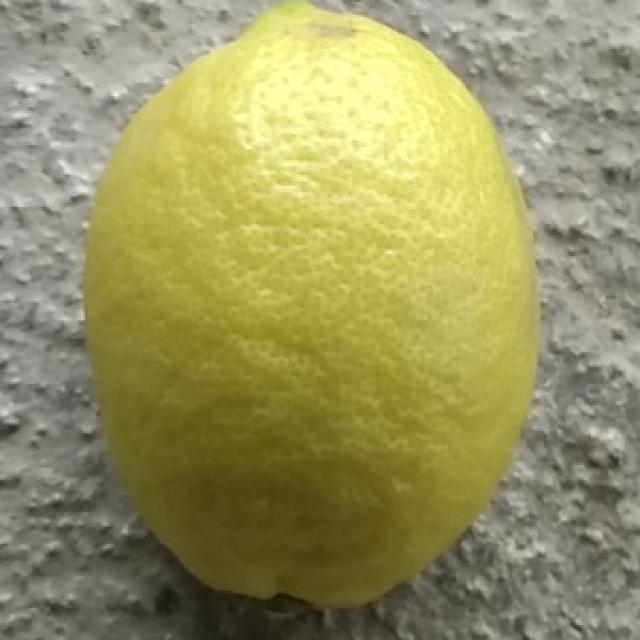Ripe: (80, 4, 548, 614)
